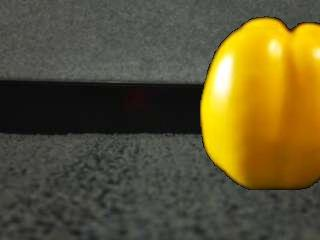Capsicum: (201, 15, 320, 192)
